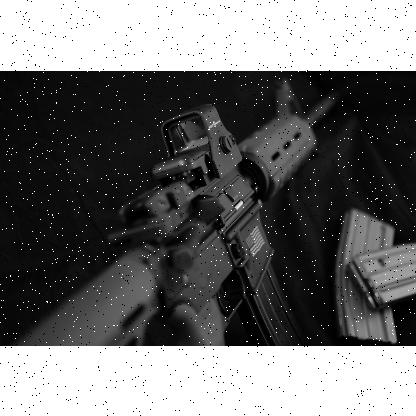gun: (11, 86, 340, 344)
